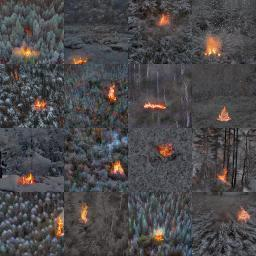Small fire: (202, 35, 225, 58), (78, 198, 91, 227), (15, 43, 37, 59), (52, 212, 66, 237), (107, 158, 124, 178), (231, 207, 251, 223), (214, 105, 231, 120), (214, 167, 229, 183), (152, 225, 165, 243), (143, 101, 168, 109), (157, 141, 173, 153), (20, 175, 36, 185), (156, 15, 168, 26)
